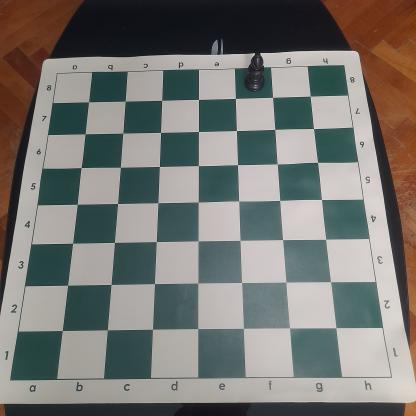black-bishop: (244, 52, 266, 92)
